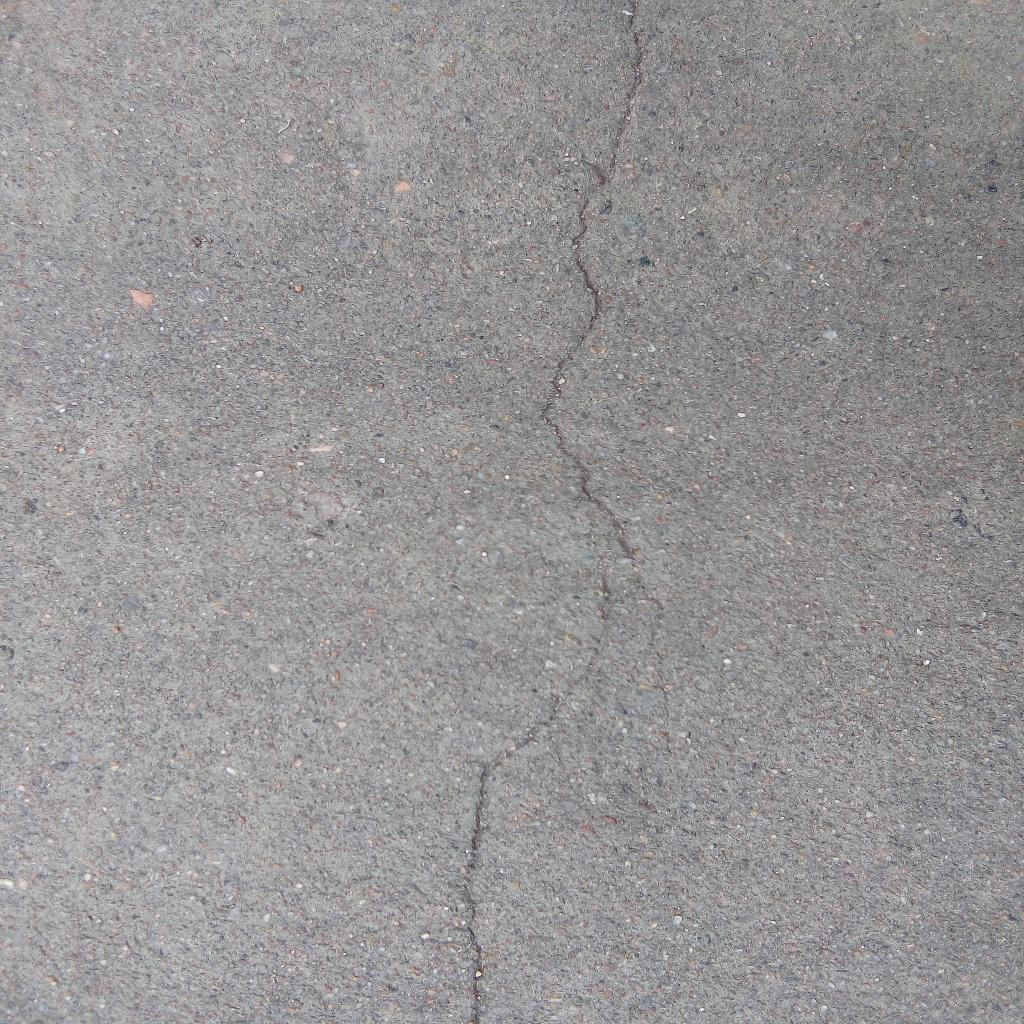Crack: (459, 1, 642, 1024)
